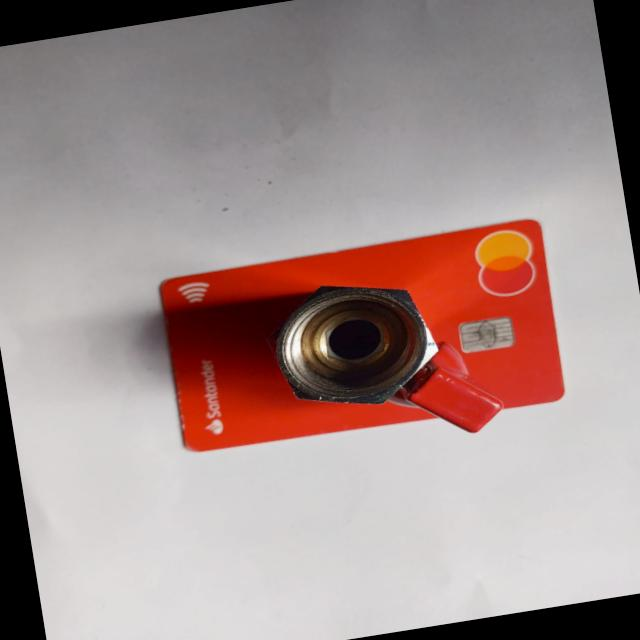cartao: (160, 219, 568, 456)
rosca_interna: (253, 266, 450, 428)
